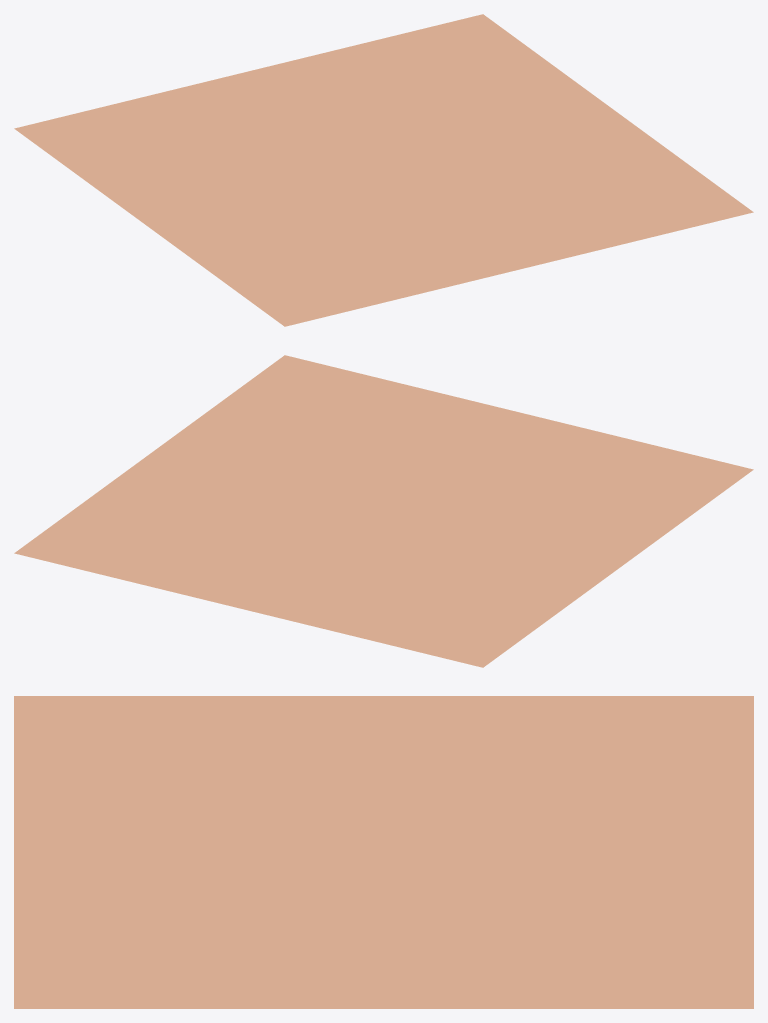
File: ground_pathOpen.glb
3 renders of one model, top to bottom at view 1: azimuth 30°, elevation 25°; view 2: azimuth 150°, elevation 25°; view 3: azimuth 270°, elevation 25°, orthographic. The views are drawn at different scales.
Visible parts, largest first — view 1: ground_pathOpen; view 2: ground_pathOpen; view 3: ground_pathOpen.
Part boxes in pixels (x1,y1,x2,y2): ground_pathOpen: [14, 14, 753, 326]; ground_pathOpen: [14, 355, 753, 667]; ground_pathOpen: [14, 696, 753, 1008].
Size of the model in its own units: 1.2 by 0 by 1.2.
